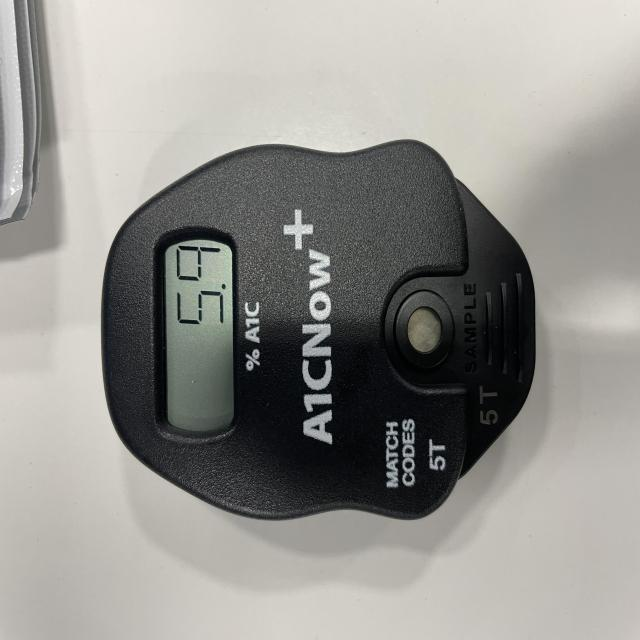hba1c: (101, 141, 538, 526)
